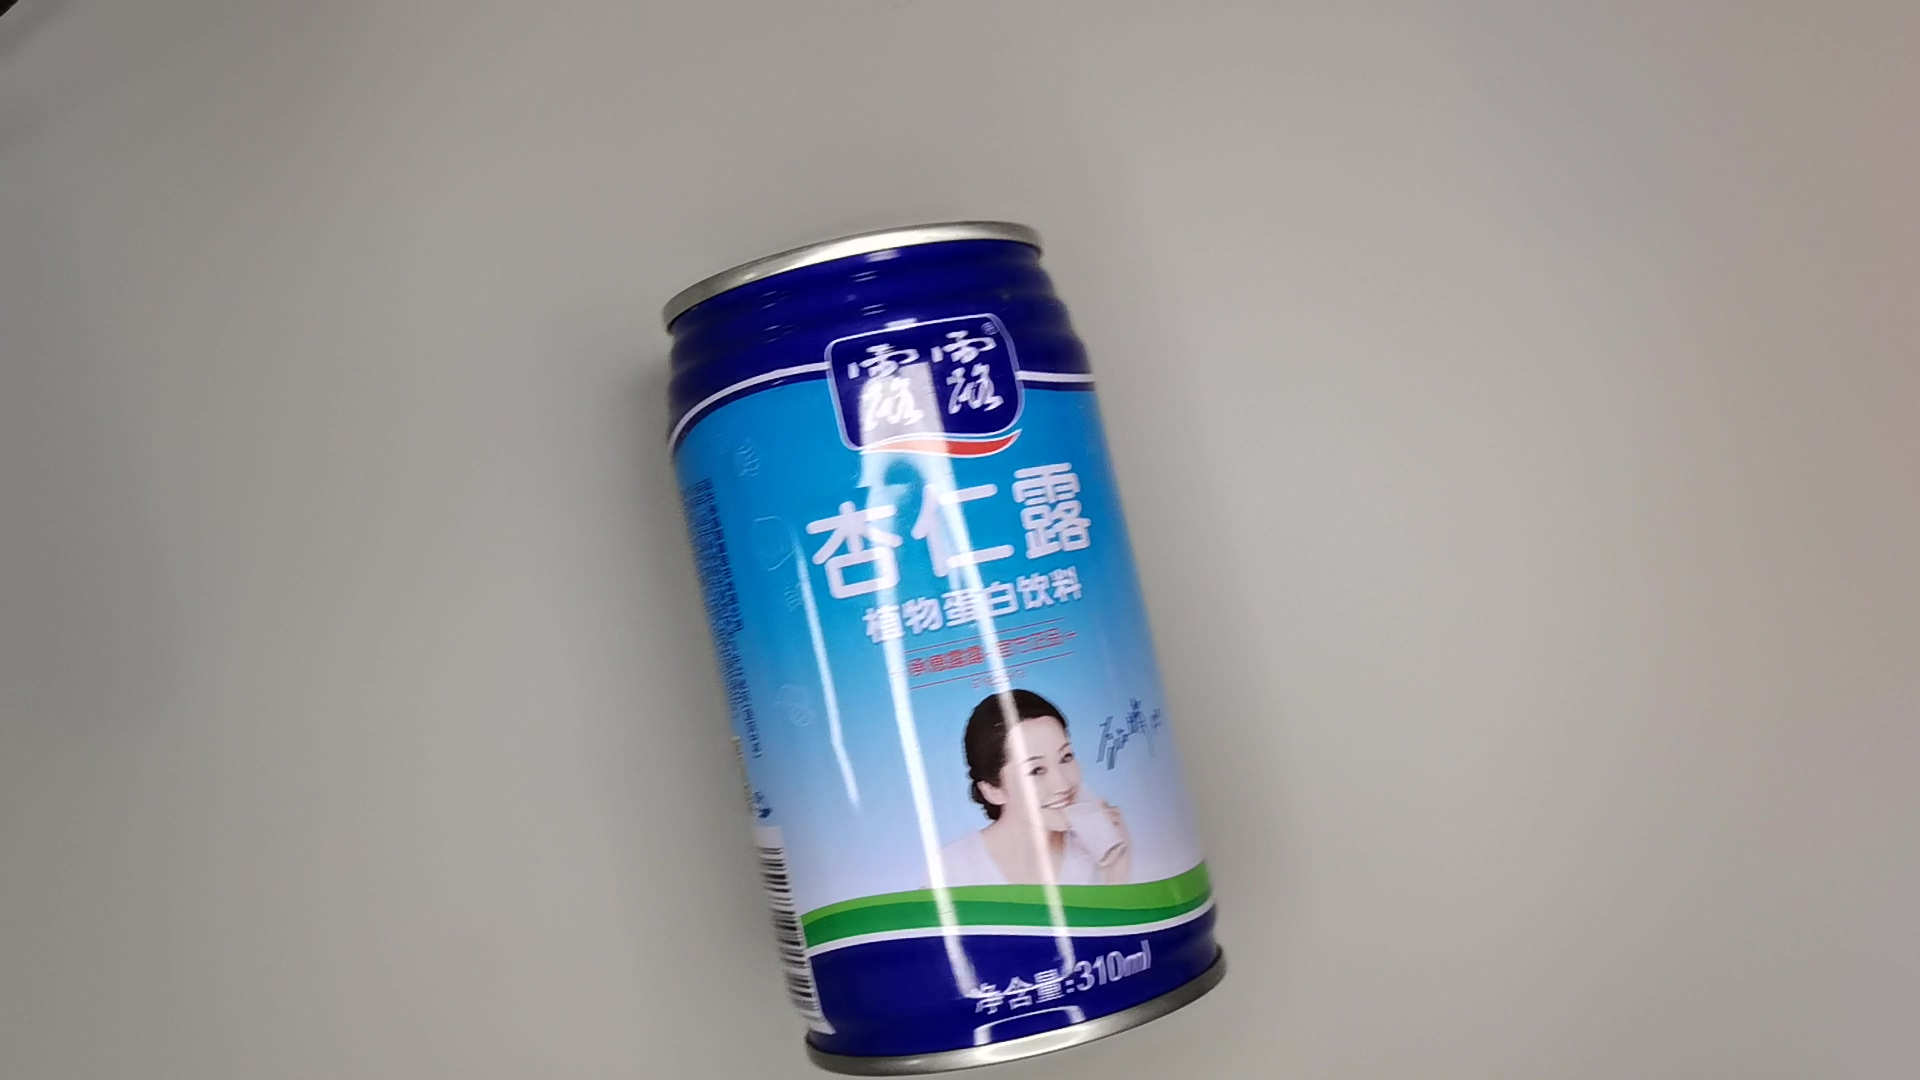can: (655, 216, 1247, 1072)
